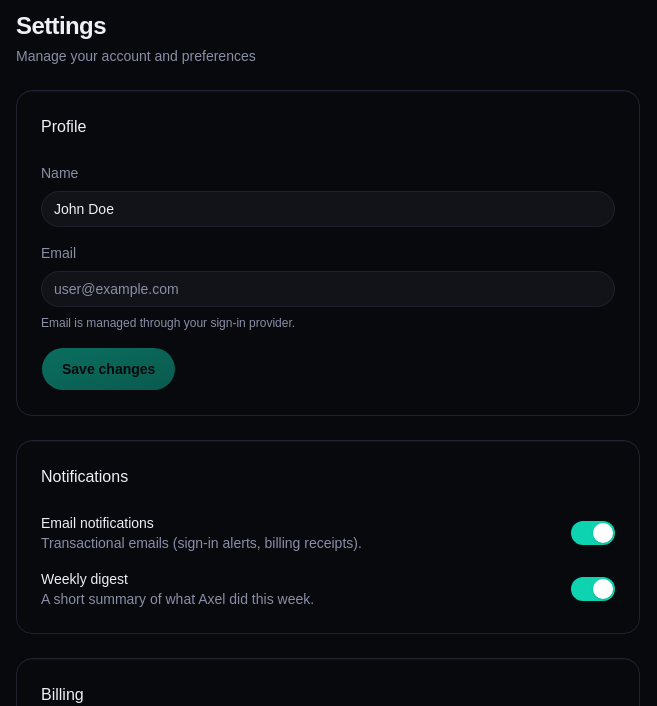
Test: Settings › profile section › saves the trimmed name and shows a success indicator
Replace the text in the field labelled "Name" with "  Ada Lovelace  " at (328, 209), box [41,191,615,227]
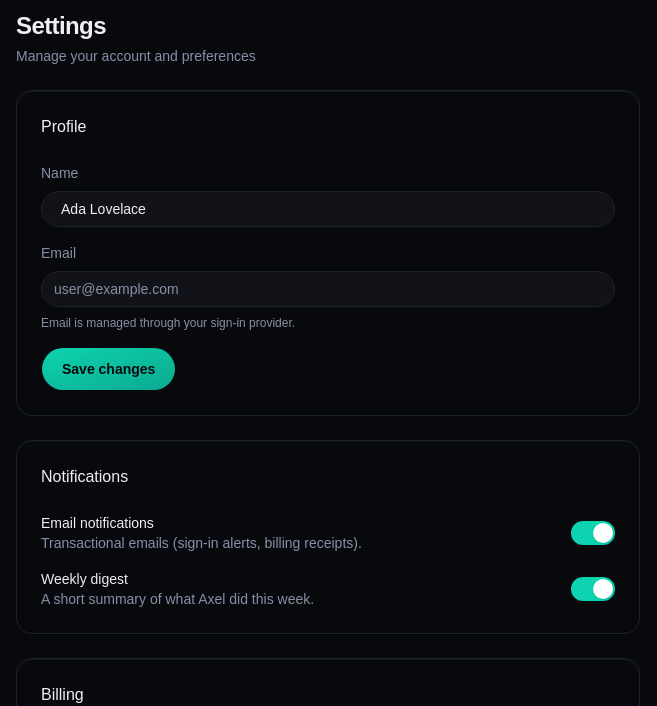
Click the button "Save changes" at (109, 369), box [41,347,176,391]
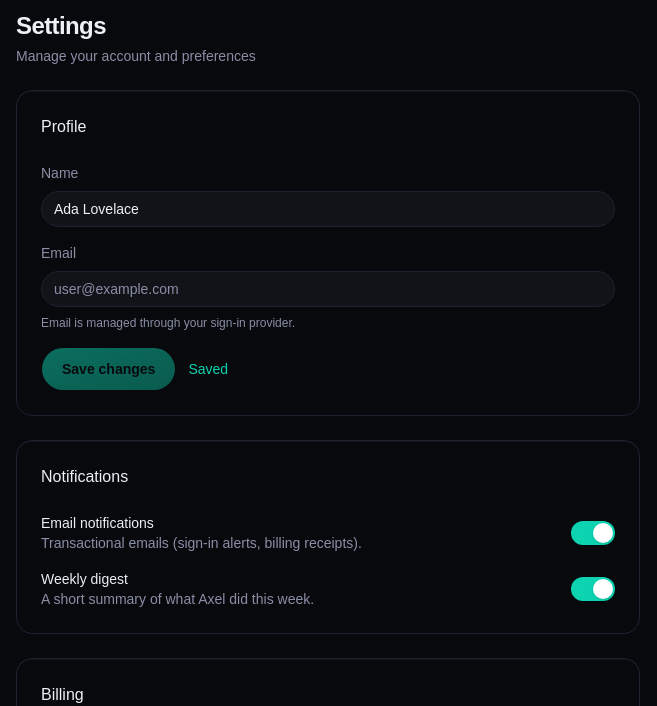
Check: the text "Saved" is shown, box [188,359,228,379]
